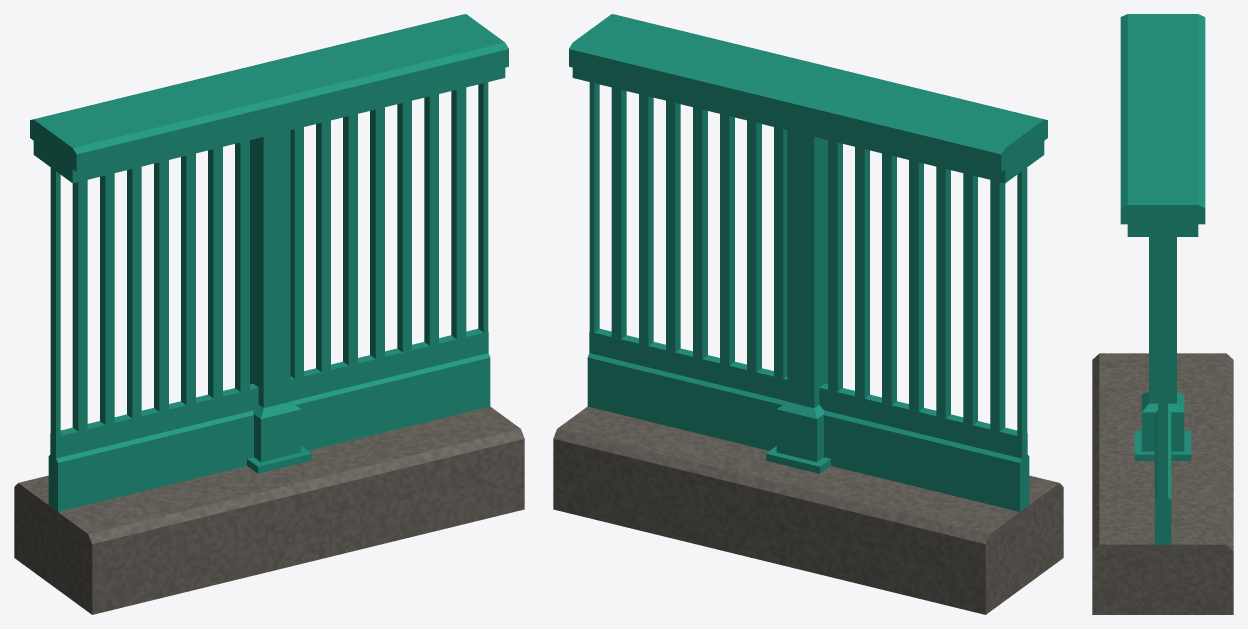
Rendered from nyc_subway_entrance_1_fence_4.obj.
3 renders of one model, left to right at view 1: azimuth 30°, elevation 25°; view 2: azimuth 150°, elevation 25°; view 3: azimuth 270°, elevation 25°, orthographic. The views are drawn at different scales.
Parts seen in each view (by area): view 1: cube; view 2: cube; view 3: cube.
Boxes of the visible parts, <box> form: cube: <box>14,14,524,614</box>; cube: <box>553,14,1063,614</box>; cube: <box>1092,14,1233,614</box>.
Bounding box in the file's own units: 1 × 1 × 0.3125.
Materials: 2 (2 with a texture image).
